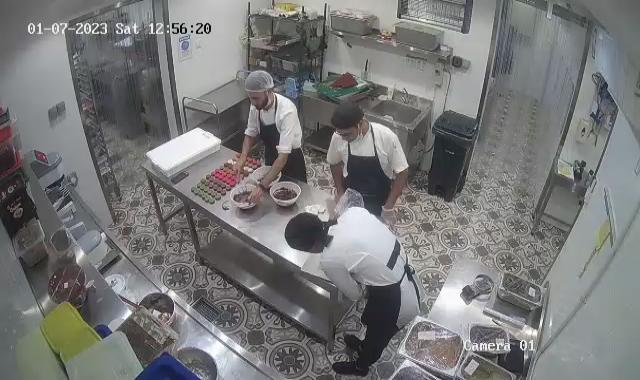hairnet: (242, 69, 274, 95)
no_hairnet: (285, 211, 328, 250), (332, 101, 364, 136)
